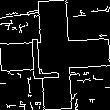L_N: (38, 29, 72, 81)
